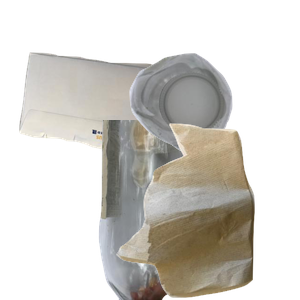glass: (96, 120, 283, 300)
paper: (17, 50, 231, 230)
plastic: (127, 51, 300, 197)
trash: (114, 121, 300, 300)
